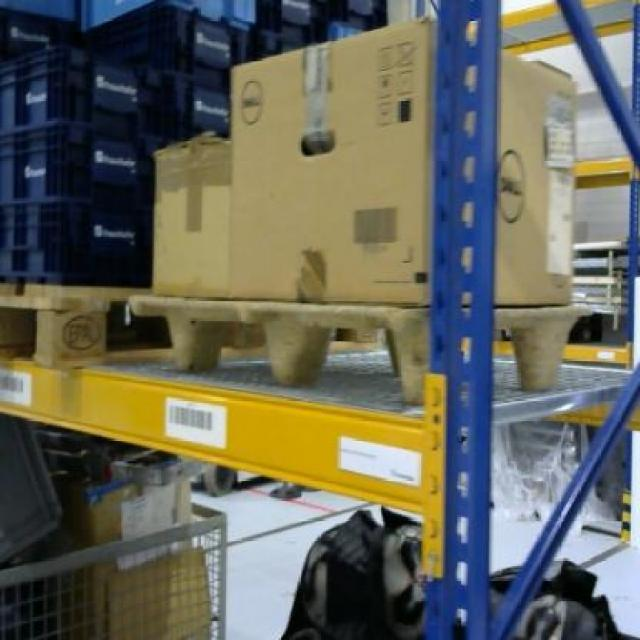box: (230, 16, 576, 304), (146, 134, 232, 296)
